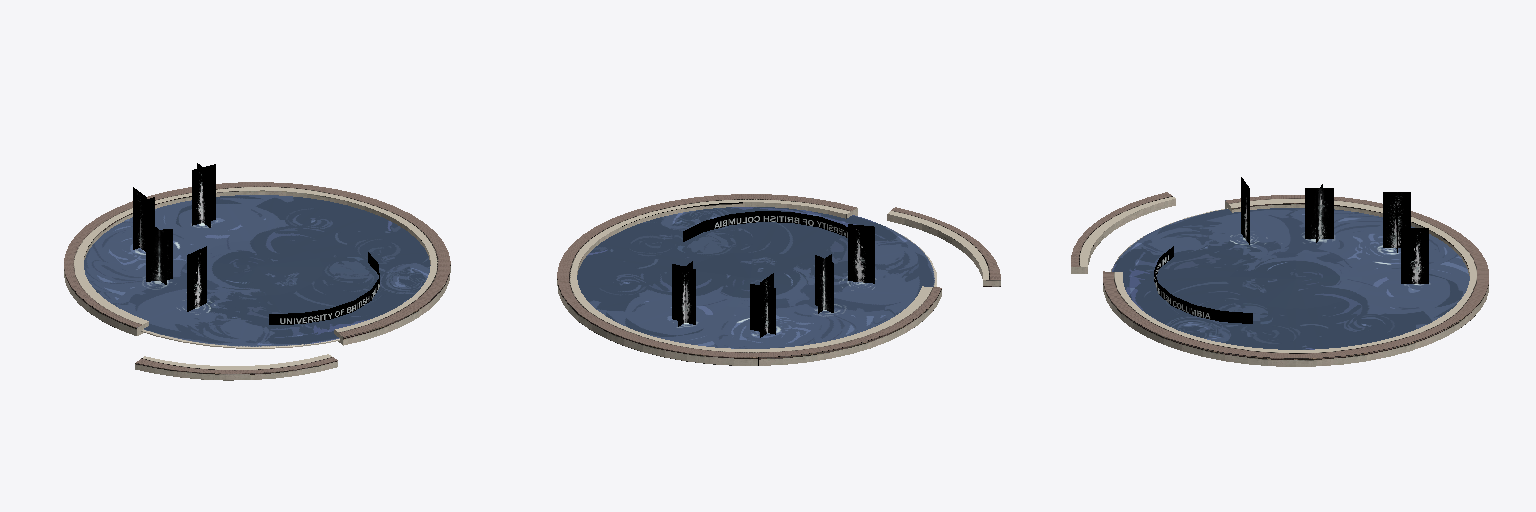
3 views of the same model, side by side, from view 1: azimuth 30°, elevation 25°; view 2: azimuth 150°, elevation 25°; view 3: azimuth 270°, elevation 25° (orthographic).
Parts seen in each view (by area): view 1: fountian_itself1_Mesh.003, outsidering2_Mesh, outsidering1_Mesh.001, fountian_itself_Mesh.002, fountainspurt1_Mesh.004, fountainspurt2_Mesh.005, fountainspurt7_Mesh.010, fountainspurt4_Mesh.007; view 2: fountian_itself1_Mesh.003, outsidering2_Mesh, outsidering1_Mesh.001, fountian_itself_Mesh.002, fountainspurt1_Mesh.004, fountainspurt7_Mesh.010, fountainspurt4_Mesh.007, fountainspurt2_Mesh.005; view 3: fountian_itself1_Mesh.003, outsidering2_Mesh, outsidering1_Mesh.001, fountainspurt6_Mesh.009, fountainspurt3_Mesh.006, fountian_itself_Mesh.002, fountainspurt5_Mesh.008.
Boxes of the visible parts, x1=… form: fountian_itself1_Mesh.003: x1=84, y1=195, x2=430, y2=348; outsidering2_Mesh: x1=64, y1=182, x2=450, y2=345; outsidering1_Mesh.001: x1=135, y1=354, x2=337, y2=380; fountian_itself_Mesh.002: x1=269, y1=252, x2=379, y2=324; fountainspurt1_Mesh.004: x1=187, y1=246, x2=206, y2=311; fountainspurt2_Mesh.005: x1=146, y1=229, x2=172, y2=281; fountainspurt7_Mesh.010: x1=192, y1=164, x2=215, y2=225; fountainspurt4_Mesh.007: x1=133, y1=197, x2=154, y2=249; fountian_itself1_Mesh.003: x1=577, y1=207, x2=936, y2=348; outsidering2_Mesh: x1=557, y1=194, x2=941, y2=365; outsidering1_Mesh.001: x1=887, y1=207, x2=1000, y2=286; fountian_itself_Mesh.002: x1=683, y1=211, x2=847, y2=241; fountainspurt1_Mesh.004: x1=848, y1=224, x2=874, y2=283; fountainspurt7_Mesh.010: x1=672, y1=264, x2=695, y2=324; fountainspurt4_Mesh.007: x1=750, y1=284, x2=775, y2=334; fountainspurt2_Mesh.005: x1=815, y1=255, x2=833, y2=312; fountian_itself1_Mesh.003: x1=1111, y1=208, x2=1469, y2=349; outsidering2_Mesh: x1=1103, y1=195, x2=1488, y2=366; outsidering1_Mesh.001: x1=1071, y1=192, x2=1175, y2=273; fountainspurt6_Mesh.009: x1=1401, y1=228, x2=1428, y2=283; fountainspurt3_Mesh.006: x1=1305, y1=188, x2=1333, y2=238; fountian_itself_Mesh.002: x1=1154, y1=246, x2=1252, y2=323; fountainspurt5_Mesh.008: x1=1383, y1=192, x2=1410, y2=247.
Bounding box in the file's own units: 0.1985 × 0.0393 × 0.2034.
Materials: 2 (1 with a texture image).